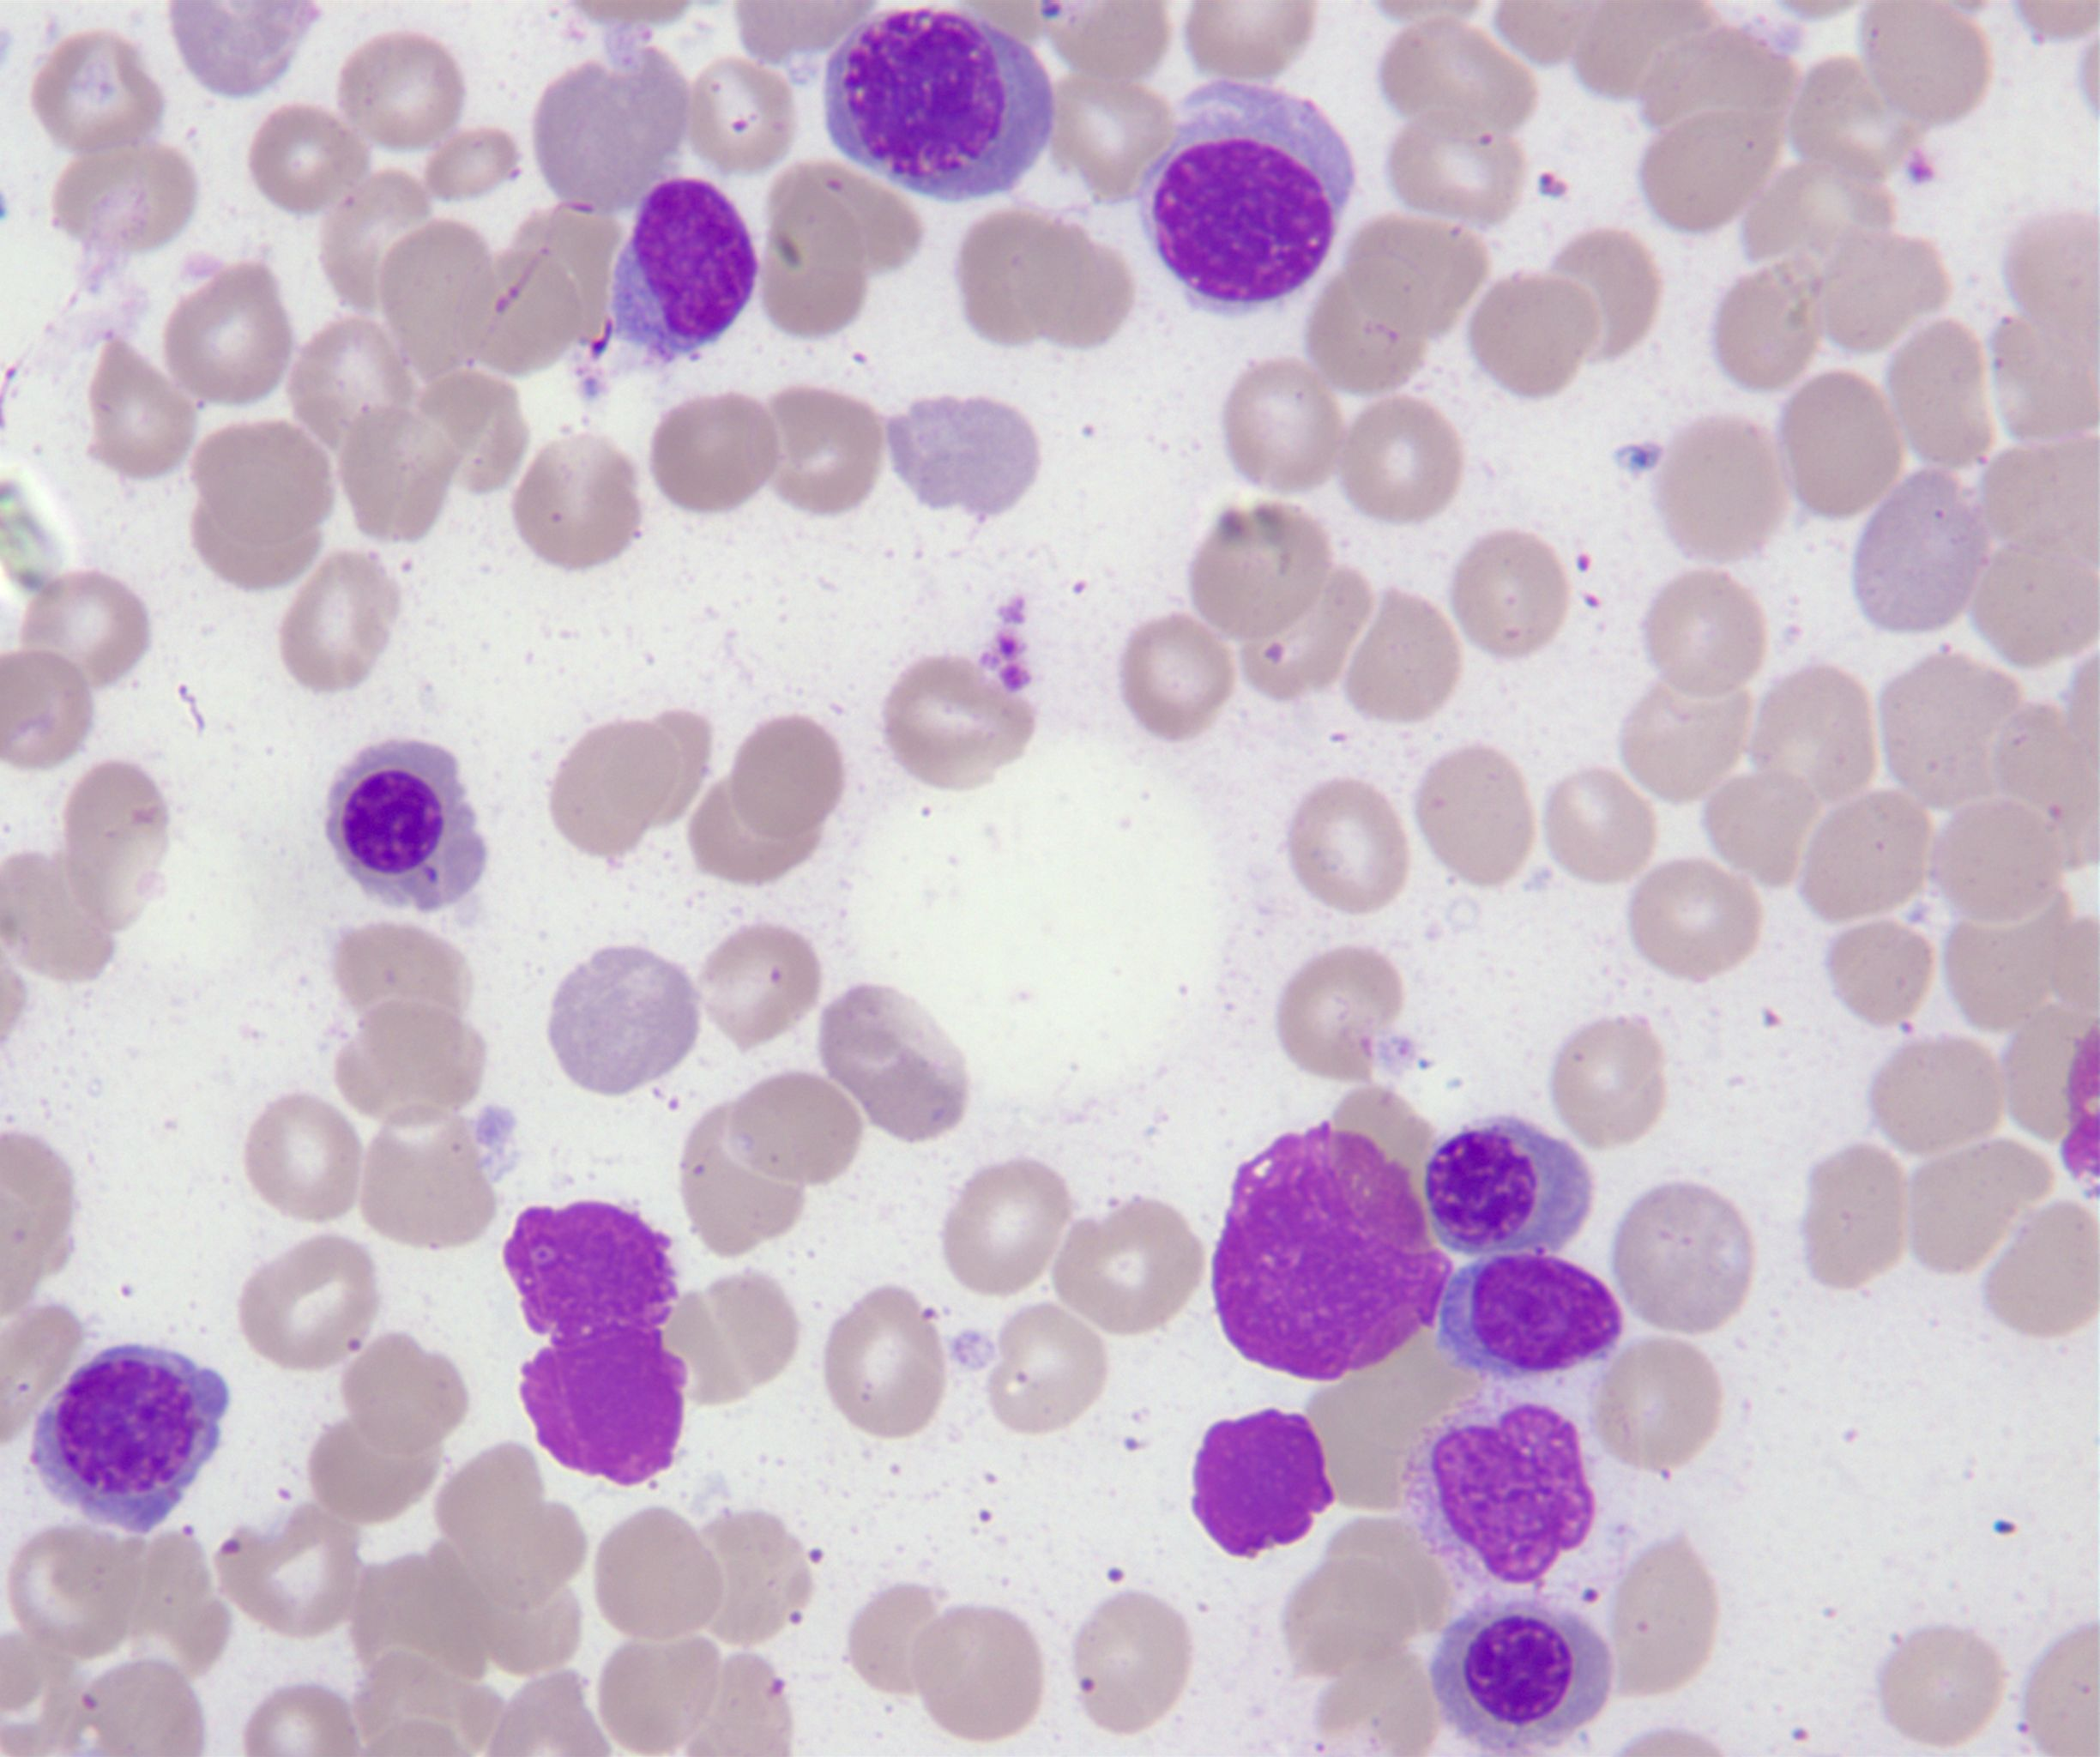23: (1139, 79, 1352, 312), (828, 10, 1052, 201), (33, 1347, 227, 1534)
24: (326, 738, 487, 911), (1423, 1117, 1592, 1256)
32: (612, 185, 755, 352), (1435, 1256, 1624, 1378)
x: (1212, 1124, 1455, 1378), (506, 1202, 689, 1488), (1408, 1399, 1592, 1609), (1434, 1602, 1612, 1750), (1195, 1412, 1331, 1555)
